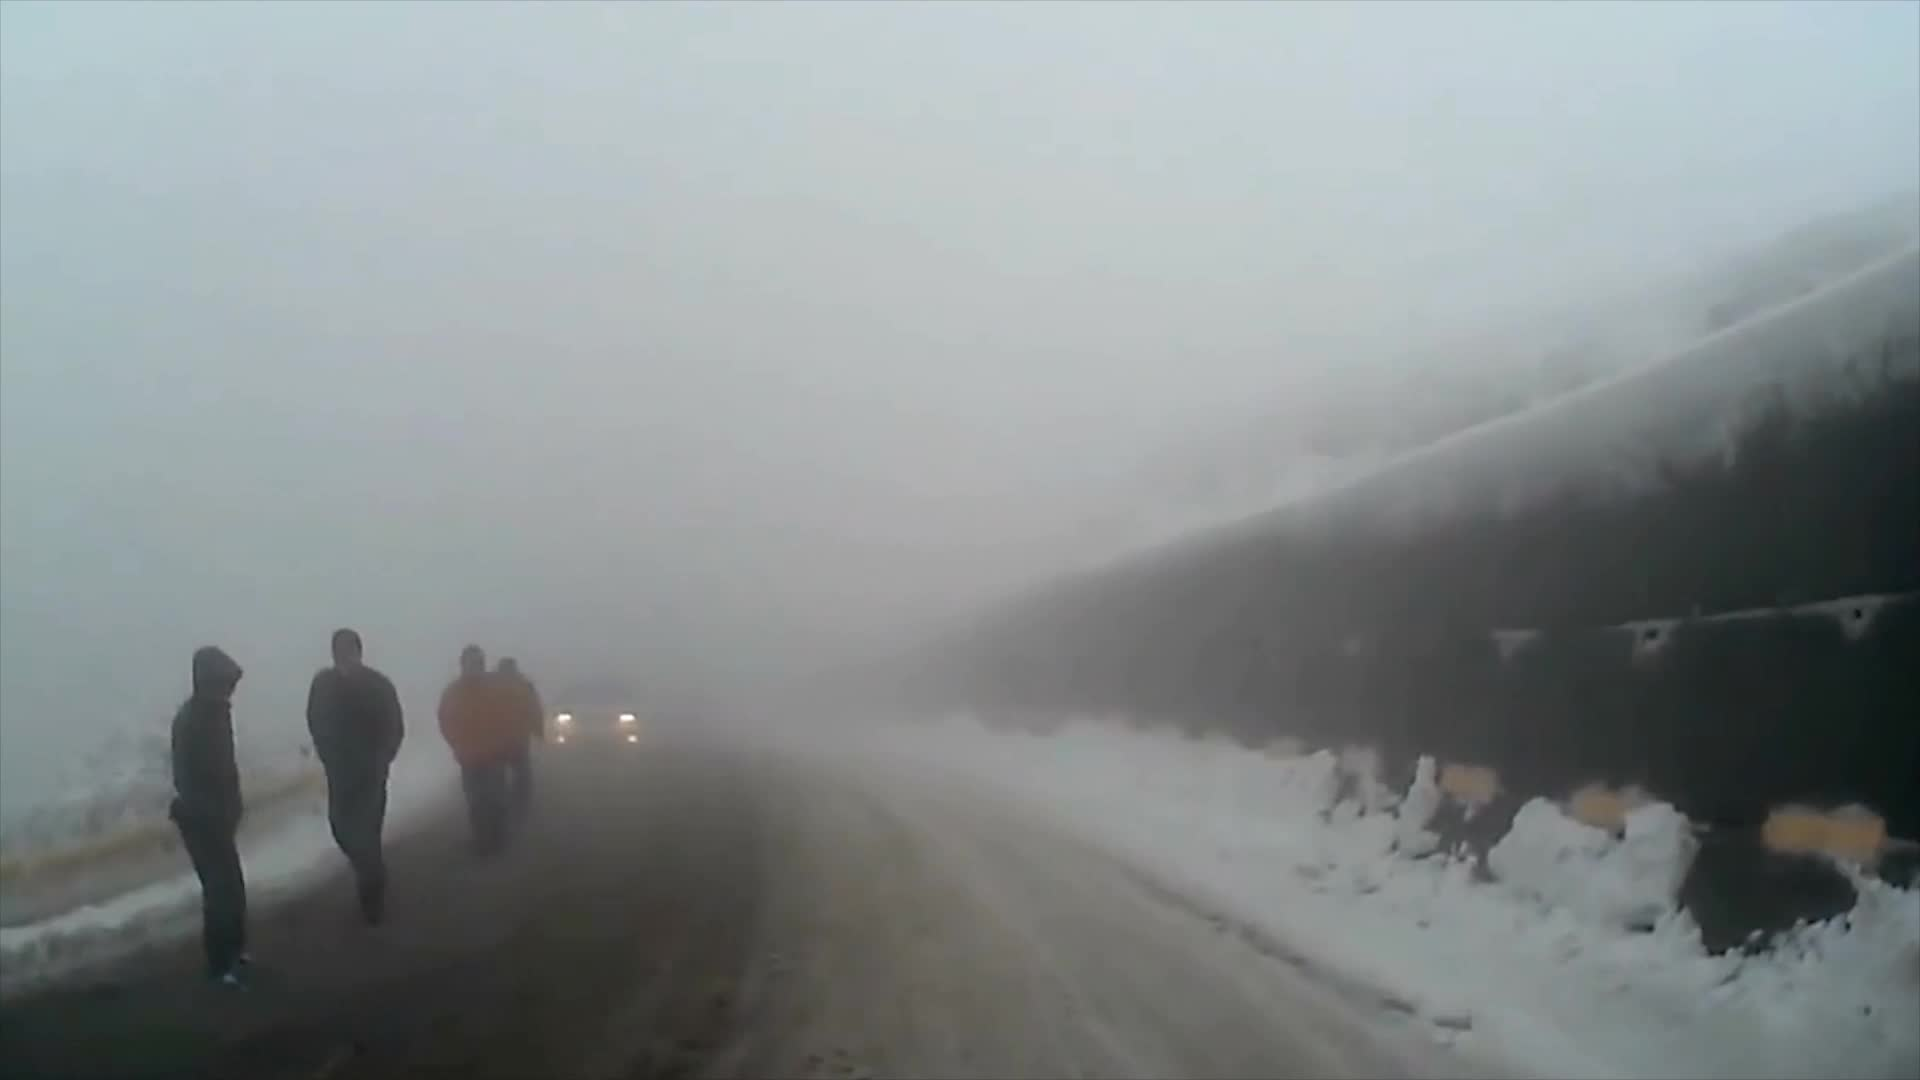pedestrian: (171, 647, 270, 987), (311, 627, 415, 926), (441, 644, 537, 859)
vehicle: (550, 677, 646, 765)
